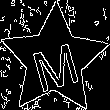M_N: (27, 30, 82, 91)
